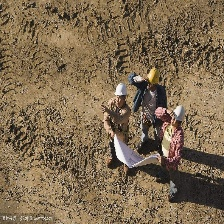helmet: (172, 104, 186, 123), (113, 82, 129, 98)
no-vest: (108, 102, 129, 141), (162, 127, 179, 170)
person: (157, 105, 189, 204), (104, 83, 131, 181)
